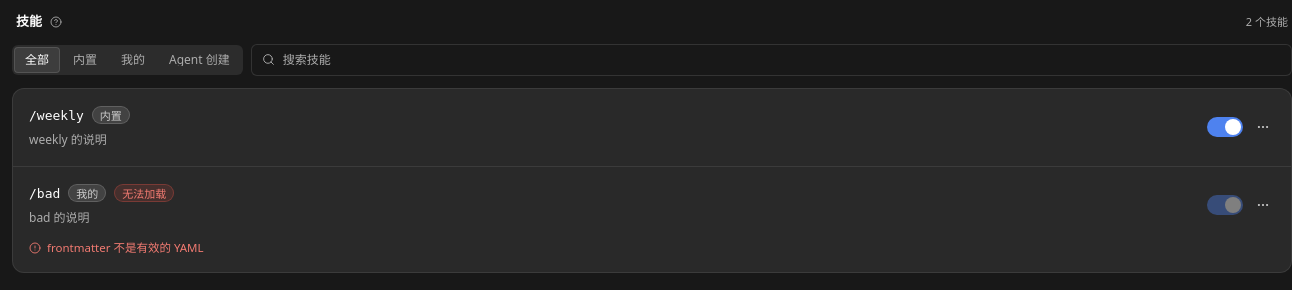
it: SkillsPage › lists broken skills with the reason and lets a healthy one be switched off
This screenshot has width=1292, height=290.
Expected: the text "/weekly" is shown, [29,108,84,122]
Expected: the text "无法加载" is shown, [122,188,166,198]
Click the switch named "启用技能 weekly". click: [1225, 127]
box: [1207,117,1243,137]
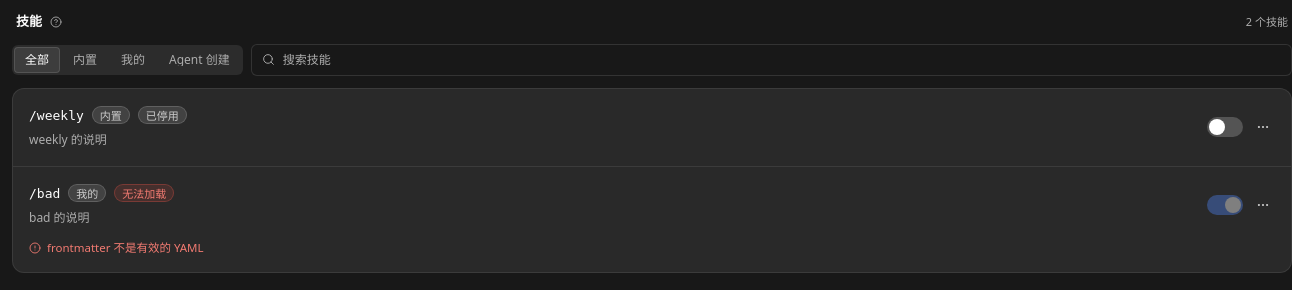
Result: the text "已停用" is shown at [146,110,179,120]
